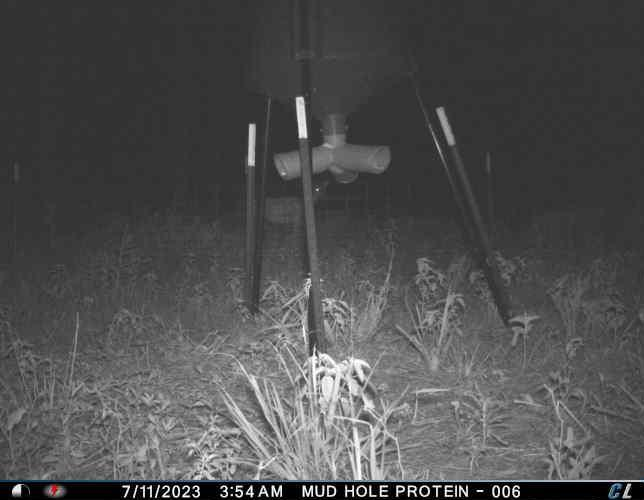Deer: (264, 176, 331, 233)
